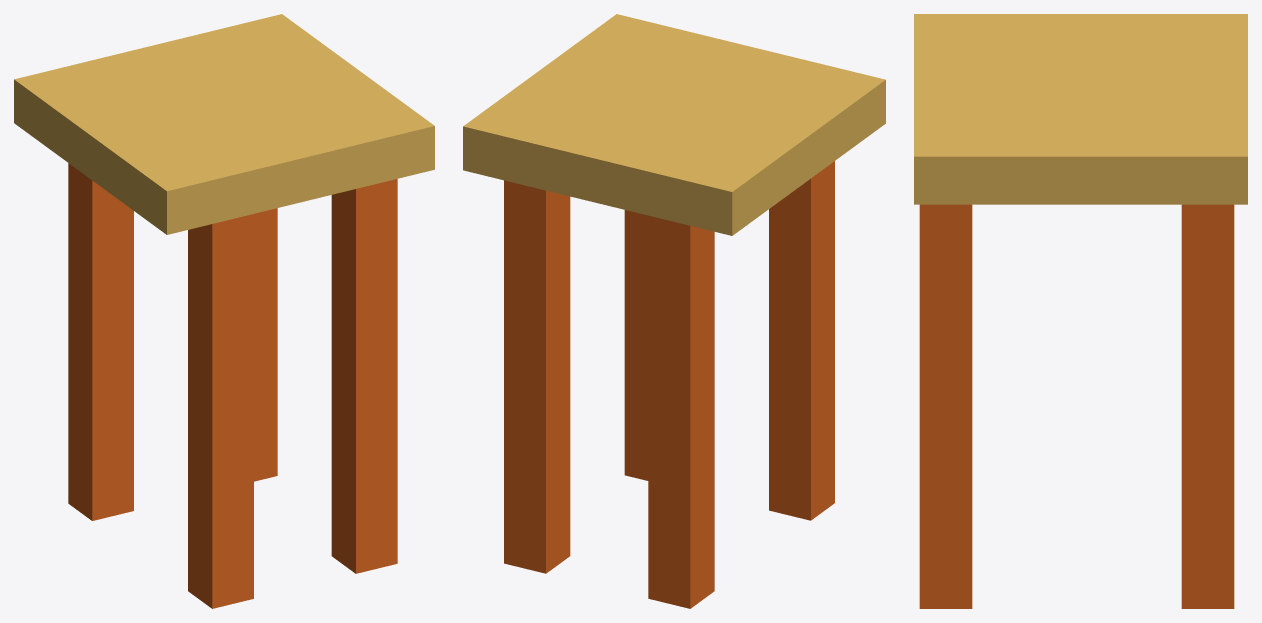
Rendered from kursi kantin.fbx.
3 views of the same model, side by side, from view 1: azimuth 30°, elevation 25°; view 2: azimuth 150°, elevation 25°; view 3: azimuth 270°, elevation 25° (orthographic). The views are drawn at different scales.
Parts seen in each view (by area): view 1: Cube.004, Cube, Cube.001, Cube.003, Cube.002; view 2: Cube.004, Cube.003, Cube.002, Cube.001, Cube; view 3: Cube.004, Cube, Cube.002.
Part boxes in pixels (bbox=[...]): Cube.004: bbox=[14, 14, 434, 234]; Cube: bbox=[331, 179, 397, 573]; Cube.001: bbox=[188, 214, 253, 608]; Cube.003: bbox=[68, 163, 133, 520]; Cube.002: bbox=[254, 208, 277, 481]; Cube.004: bbox=[463, 14, 885, 235]; Cube.003: bbox=[648, 215, 714, 608]; Cube.002: bbox=[504, 180, 570, 573]; Cube.001: bbox=[769, 161, 834, 520]; Cube: bbox=[624, 210, 648, 480]; Cube.004: bbox=[914, 14, 1247, 204]; Cube: bbox=[919, 204, 972, 608]; Cube.002: bbox=[1181, 204, 1234, 608].
Bounding box in the file's own units: 1281 × 1971 × 1266.
